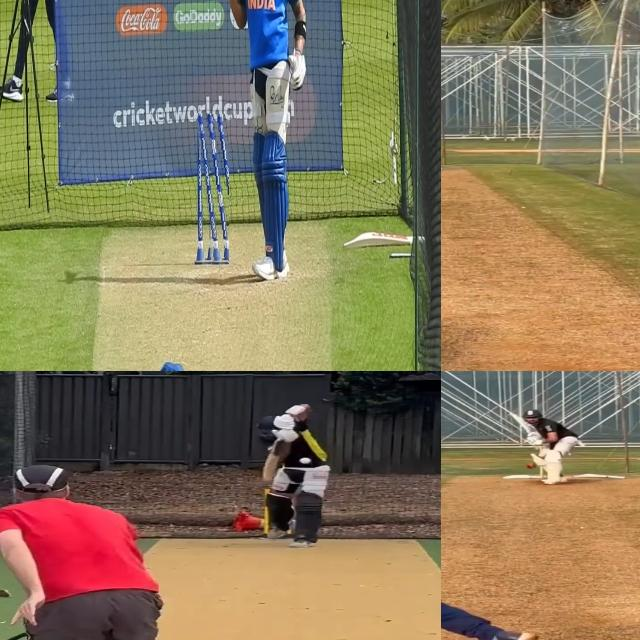Cricket ball: (300, 456, 311, 466), (526, 463, 537, 469)
Stumps: (194, 108, 229, 266)
